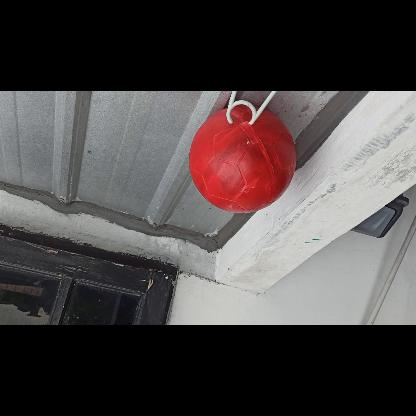red_ball: (188, 106, 294, 212)
